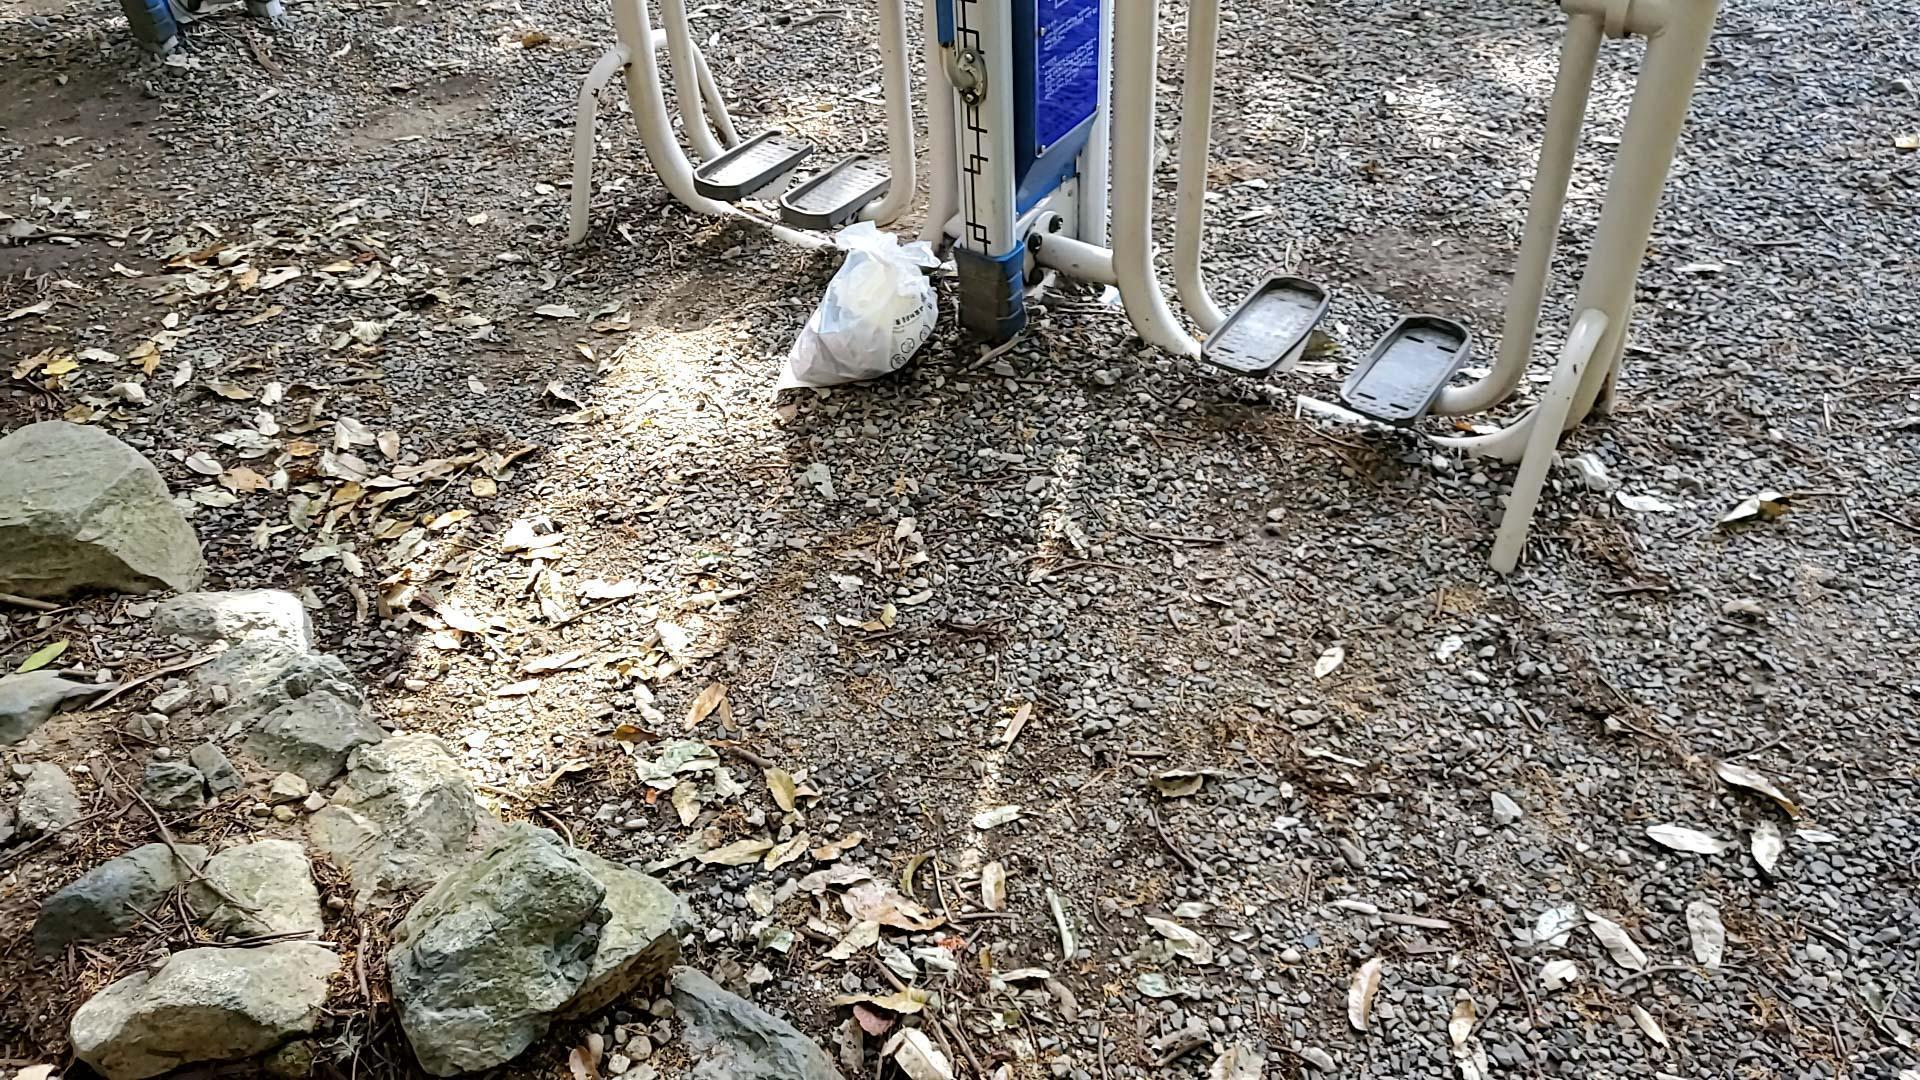white_bag: (769, 220, 956, 401)
